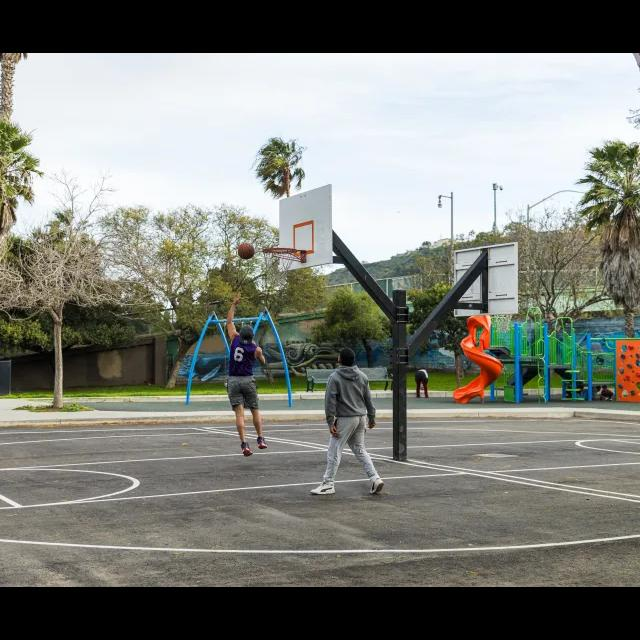basketball: (236, 238, 253, 257)
hoop: (265, 248, 294, 290), (492, 315, 513, 336)
